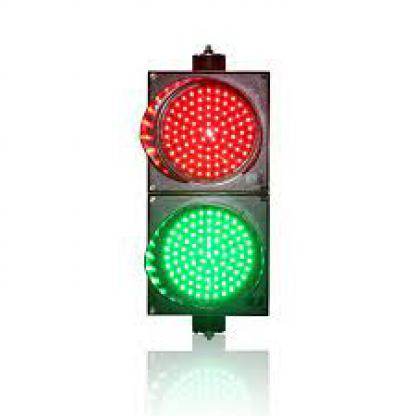traffic-light: (150, 70, 274, 318)
